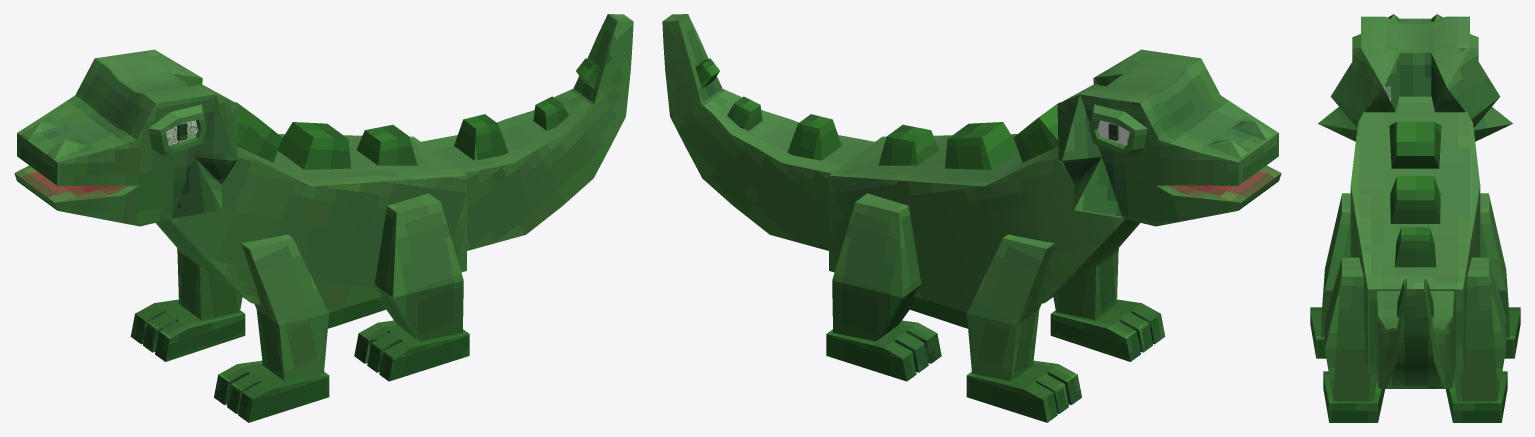
File: animal_lizard.obj
The picture shows the model from 3 angles, left to right: view 1: azimuth 30°, elevation 25°; view 2: azimuth 150°, elevation 25°; view 3: azimuth 270°, elevation 25°; orthographic projection. The views are drawn at different scales.
Parts seen in each view (by area): view 1: animal_lizard; view 2: animal_lizard; view 3: animal_lizard.
Boxes of the visible parts, left/top/right/bottom form: animal_lizard: left=14, top=14, right=633, bottom=422; animal_lizard: left=662, top=14, right=1281, bottom=422; animal_lizard: left=1310, top=14, right=1520, bottom=422.
Bounding box in the file's own units: 4.25 × 2.15 × 1.46.
1 material, 1 textured.
